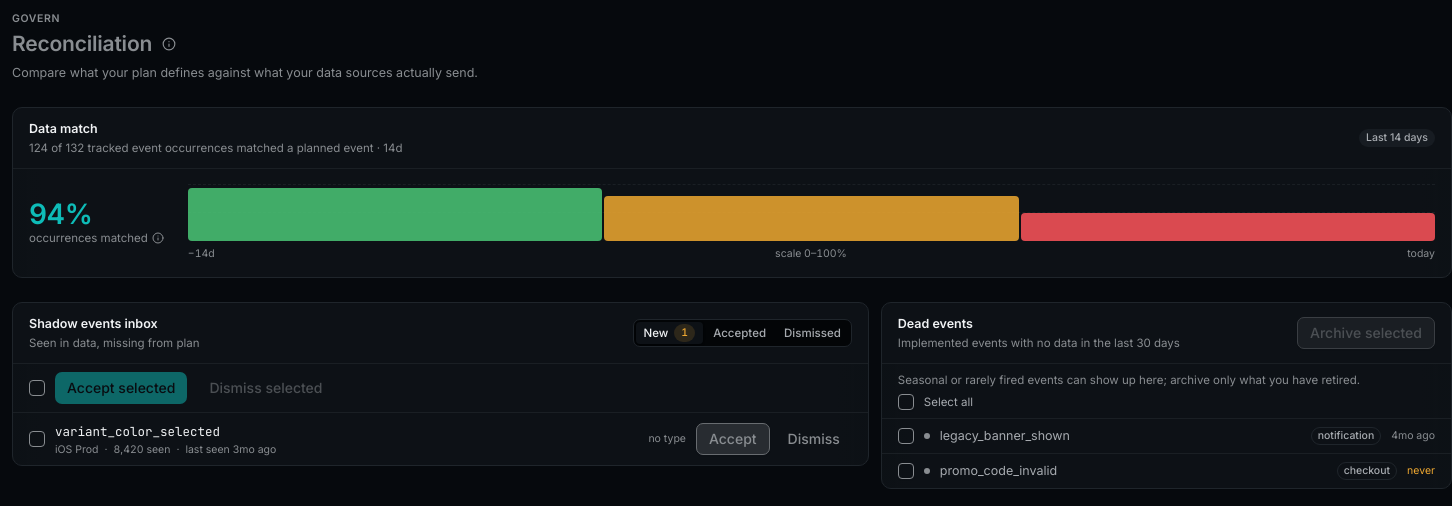
Test: ReconciliationPage › shows a mixed select-all while only some dead rows are picked, and clears from there (EV-26)
Click the checkbox named "Select legacy_banner_shown" at (906, 436), box 898,428 -> 914,444
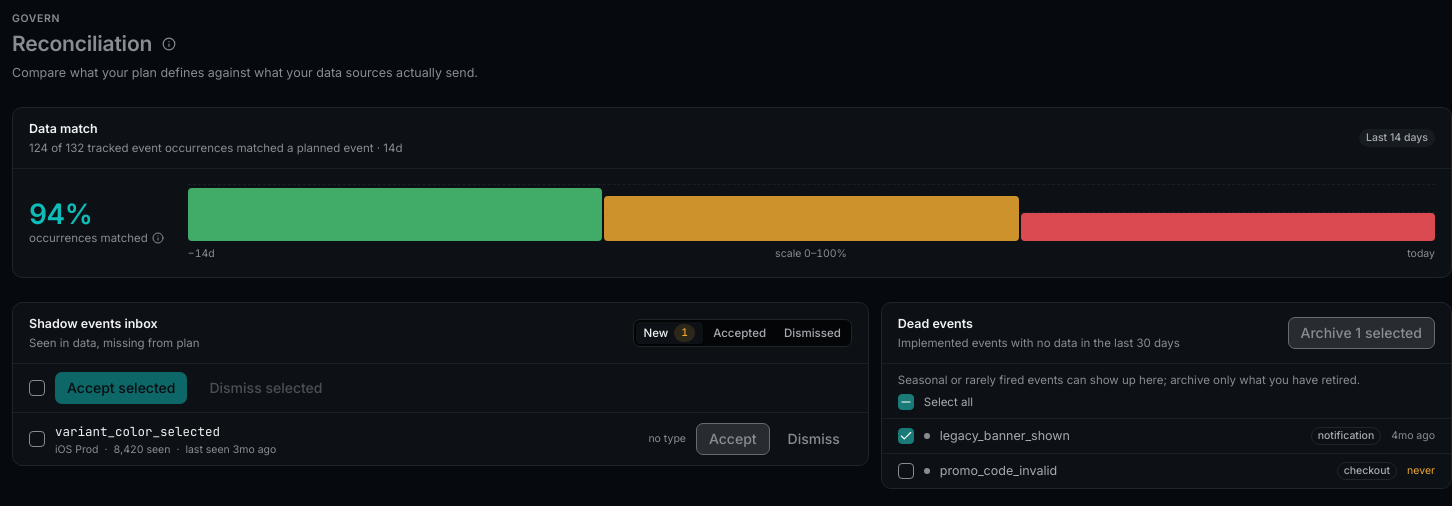
Expected: the checkbox named "Select all dead events" has attribute aria-checked="mixed"
Note: A click from "some" clears the selection instead of selecting every row.
Click the checkbox named "Select all dead events" at (906, 402), box 898,394 -> 914,410
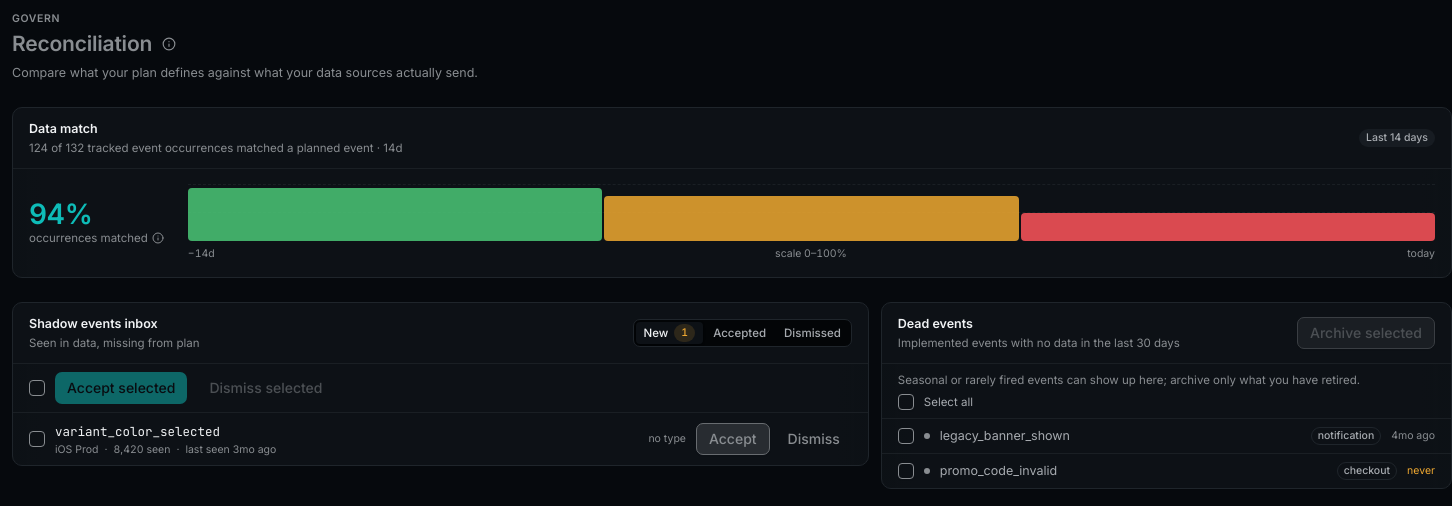
Expected: the checkbox named "Select promo_code_invalid" is not checked, 898,463 -> 914,479
Expected: the checkbox named "Select legacy_banner_shown" is not checked, 898,428 -> 914,444
Expected: the button "Archive selected" is disabled, 1297,317 -> 1435,349
